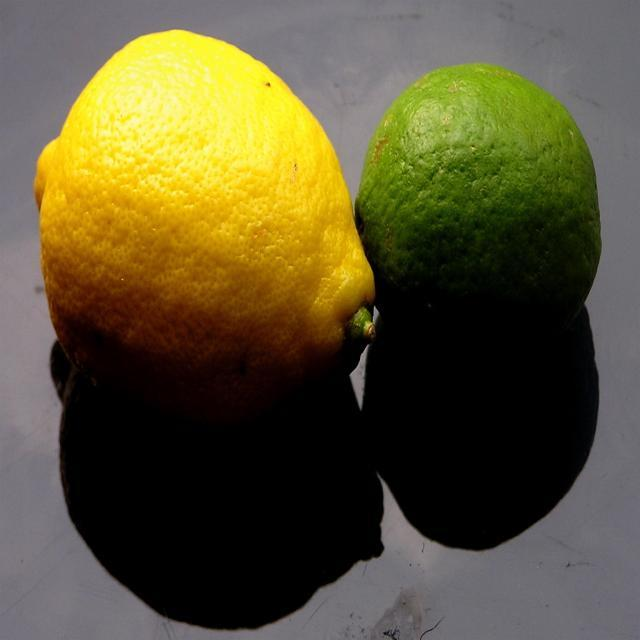Lemon: (32, 23, 374, 441), (356, 64, 603, 352)
